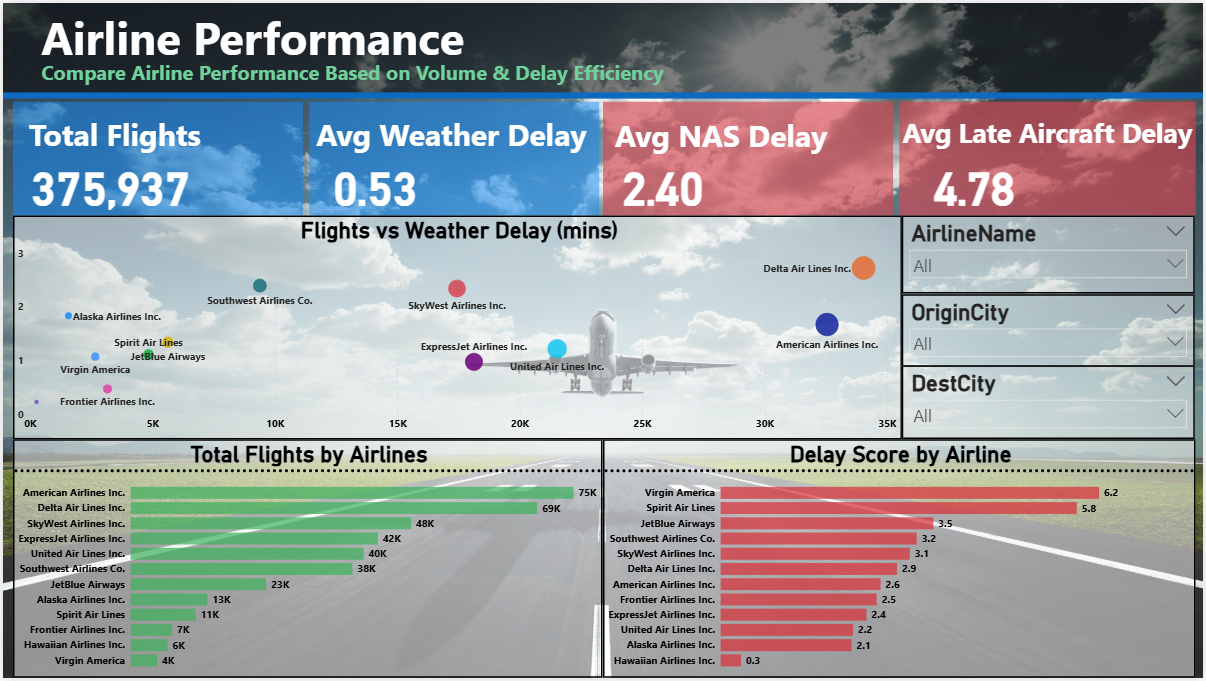

The page's visual inventory and layout, read from the dashboard file:
{"tool":"powerbi","page":{"name":"Airline Performance","canvas":[1920,1080],"ordinal":1},"visuals":[{"type":"textbox","box":[0,0,1920,148],"z":0},{"type":"shape","box":[0,138,1920,20],"z":1000},{"type":"textbox","box":[56.1,0,1136.5,117.6],"z":2000},{"type":"actionButton","box":[16,158,464,182],"z":3000},{"type":"textbox","box":[36,172,292,78],"z":4000},{"type":"card","fields":{"Values":["Sum(airline vw_flight_analysis.TotalFlights)"]},"box":[16,234,312,106],"z":5000},{"type":"actionButton","box":[1433.3,157.4,474.1,182.8],"z":6000},{"type":"actionButton","box":[960,158,464,182],"z":7000},{"type":"actionButton","box":[490,158,464,182],"z":8000},{"type":"textbox","box":[496,172,464,76],"z":9000},{"type":"card","fields":{"Values":["Avg(airline vw_flight_analysis.AvgWeatherDelay)"]},"box":[490,234,212,106],"z":10000},{"type":"textbox","box":[974,174,376,76],"z":11000},{"type":"textbox","box":[1433.3,171.9,481.4,121.2],"z":12000},{"type":"card","fields":{"Values":["Avg(airline vw_flight_analysis.AvgLateAircraftDelay)"]},"box":[1438,236,232,104],"z":13000},{"type":"card","fields":{"Values":["Avg(airline vw_flight_analysis.AvgNASDelay)"]},"box":[950,234,212,106],"z":14000},{"type":"textbox","box":[56.1,83.2,1080.4,65.1],"z":15000},{"type":"clusteredBarChart","title":"Total Flights by Airlines","fields":{"Category":["airline vw_flight_analysis.AirlineName"],"Y":["Sum(airline vw_flight_analysis.TotalFlights)"]},"box":[16.3,698.5,942.8,381.8],"z":16000},{"type":"clusteredBarChart","title":"Delay Score by Airline","fields":{"Y":["airline vw_airline_kpi.Delay Score"],"Category":["airline vw_flight_analysis.AirlineName"]},"box":[959.1,698.5,948.3,381.8],"z":17000},{"type":"scatterChart","title":"Flights vs Weather Delay (mins)","fields":{"X":["Sum(airline vw_flight_analysis.TotalFlights)"],"Category":["airline vw_flight_analysis.AirlineName"],"Series":["airline vw_flight_analysis.AirlineName"],"Size":["Sum(airline vw_flight_analysis.TotalFlights)"],"Y":["Sum(airline vw_flight_analysis.AvgWeatherDelay)"]},"box":[16.3,340.2,1422.4,358.3],"z":18000},{"type":"slicer","title":"Top Origin cities By Flight","fields":{"Values":["airline vw_flight_analysis.AirlineName"]},"box":[1438.7,340.2,468.7,124.9],"z":19000},{"type":"slicer","title":"Top Origin cities By Flight","fields":{"Values":["airline vw_flight_analysis.DestCity"]},"box":[1438.7,580.9,468.7,117.6],"z":20000},{"type":"slicer","title":"Top Origin cities By Flight","fields":{"Values":["airline vw_flight_analysis.OriginCity"]},"box":[1438.7,465.1,468.7,115.8],"z":21000}]}

Visuals, with their boxes in screenshot pixels (x1, y1, x2, y2), scaled from the page's 1920x1080 canvas onto the 1206x681 screenshot:
textbox: x1=0 y1=0 x2=1205 y2=93
shape: x1=0 y1=87 x2=1205 y2=100
textbox: x1=35 y1=0 x2=749 y2=74
actionButton: x1=10 y1=100 x2=302 y2=214
textbox: x1=23 y1=108 x2=206 y2=158
card - Sum(airline vw_flight_analysis.TotalFlights): x1=10 y1=148 x2=206 y2=214
actionButton: x1=900 y1=99 x2=1198 y2=215
actionButton: x1=603 y1=100 x2=894 y2=214
actionButton: x1=308 y1=100 x2=599 y2=214
textbox: x1=312 y1=108 x2=603 y2=156
card - Avg(airline vw_flight_analysis.AvgWeatherDelay): x1=308 y1=148 x2=441 y2=214
textbox: x1=612 y1=110 x2=848 y2=158
textbox: x1=900 y1=108 x2=1203 y2=185
card - Avg(airline vw_flight_analysis.AvgLateAircraftDelay): x1=903 y1=149 x2=1049 y2=214
card - Avg(airline vw_flight_analysis.AvgNASDelay): x1=597 y1=148 x2=730 y2=214
textbox: x1=35 y1=52 x2=714 y2=94
"Total Flights by Airlines" clusteredBarChart: x1=10 y1=440 x2=602 y2=680
"Delay Score by Airline" clusteredBarChart: x1=602 y1=440 x2=1198 y2=680
"Flights vs Weather Delay (mins)" scatterChart: x1=10 y1=215 x2=904 y2=440
"Top Origin cities By Flight" slicer: x1=904 y1=215 x2=1198 y2=293
"Top Origin cities By Flight" slicer: x1=904 y1=366 x2=1198 y2=440
"Top Origin cities By Flight" slicer: x1=904 y1=293 x2=1198 y2=366
